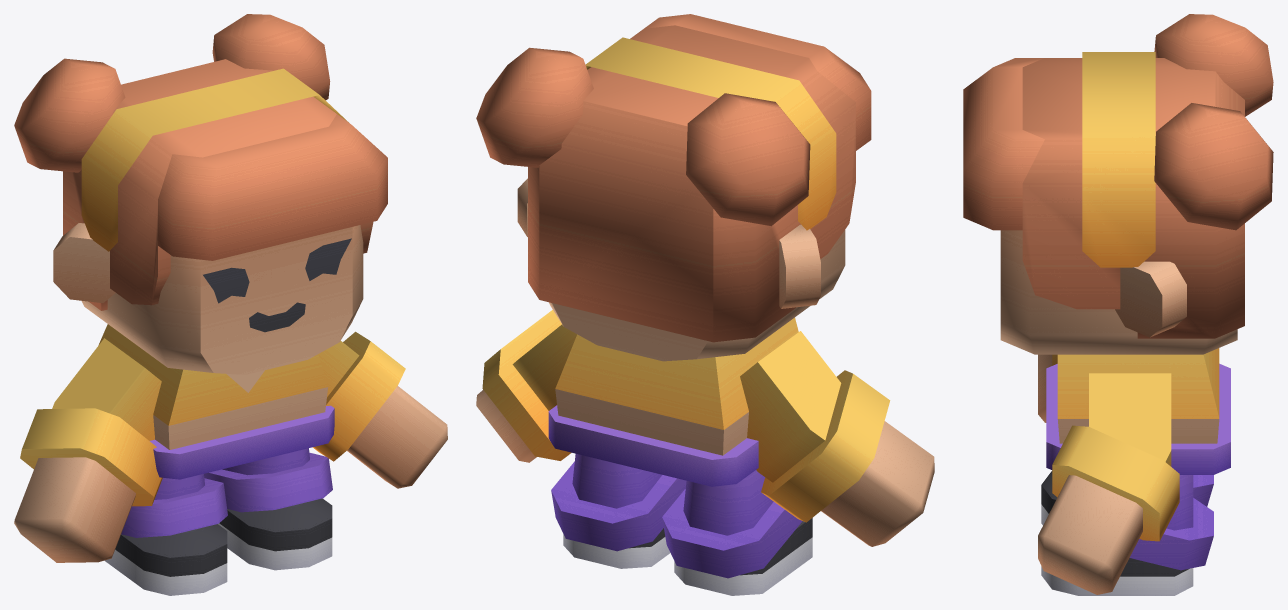
Rendered from character-female-b.glb.
The picture shows the model from 3 angles, left to right: view 1: azimuth 30°, elevation 25°; view 2: azimuth 150°, elevation 25°; view 3: azimuth 270°, elevation 25°; orthographic projection. The views are drawn at different scales.
Parts seen in each view (by area): view 1: body-mesh; view 2: body-mesh; view 3: body-mesh.
Boxes of the visible parts, left/top/right/bottom form: body-mesh: left=14, top=14, right=447, bottom=595; body-mesh: left=476, top=14, right=934, bottom=595; body-mesh: left=963, top=14, right=1273, bottom=595.
Size of the model in its own units: 1.59 by 1.74 by 1.
Materials: 1 (1 with a texture image).
